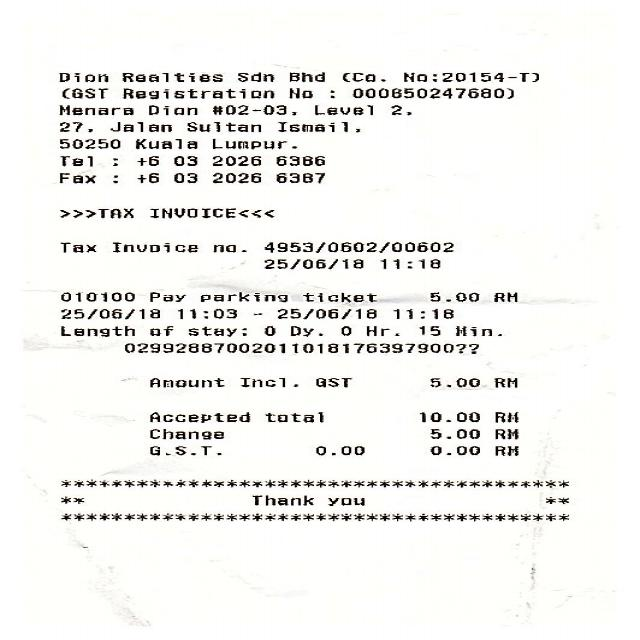text: (262, 241, 451, 252), (290, 342, 476, 353), (349, 87, 511, 98), (121, 342, 282, 353), (120, 88, 272, 99), (402, 70, 536, 82), (147, 410, 248, 422), (274, 307, 374, 319), (262, 257, 361, 269), (59, 307, 158, 319), (119, 71, 220, 82), (210, 103, 294, 115), (274, 120, 358, 132), (210, 137, 294, 149), (197, 291, 285, 302), (111, 241, 196, 252), (184, 120, 259, 132), (147, 444, 215, 457), (148, 208, 236, 218), (59, 290, 132, 302), (59, 324, 132, 336), (148, 427, 221, 439), (57, 104, 131, 115), (300, 292, 376, 302), (107, 120, 170, 132), (133, 137, 195, 149), (148, 377, 221, 387), (391, 307, 451, 319), (418, 410, 478, 422), (250, 494, 312, 505), (312, 104, 371, 115), (237, 376, 296, 387), (264, 411, 321, 422), (209, 154, 259, 166), (209, 171, 259, 183), (59, 138, 118, 148), (379, 258, 438, 268), (185, 326, 244, 336), (273, 171, 322, 183), (176, 308, 234, 318), (428, 290, 476, 302), (56, 71, 106, 82), (145, 104, 195, 115), (454, 324, 499, 336), (273, 154, 322, 165), (428, 377, 478, 387), (428, 428, 478, 438), (339, 71, 384, 82), (59, 88, 106, 98), (55, 171, 94, 183), (234, 70, 272, 82), (286, 70, 322, 82), (148, 290, 183, 302), (94, 207, 131, 218), (428, 446, 478, 454), (313, 446, 362, 454), (59, 241, 94, 252), (365, 324, 397, 336), (57, 121, 90, 132), (57, 155, 90, 166), (314, 377, 349, 387), (327, 496, 362, 506), (289, 325, 320, 336), (492, 290, 515, 302), (493, 410, 516, 422), (493, 427, 516, 439), (285, 87, 310, 98), (172, 154, 195, 165), (148, 324, 171, 335), (135, 154, 156, 166), (135, 171, 156, 183), (213, 244, 244, 252), (387, 104, 409, 115), (172, 172, 195, 182), (493, 377, 516, 387), (493, 445, 516, 455), (417, 325, 438, 335), (262, 325, 273, 335), (339, 325, 349, 335), (251, 312, 260, 314)
